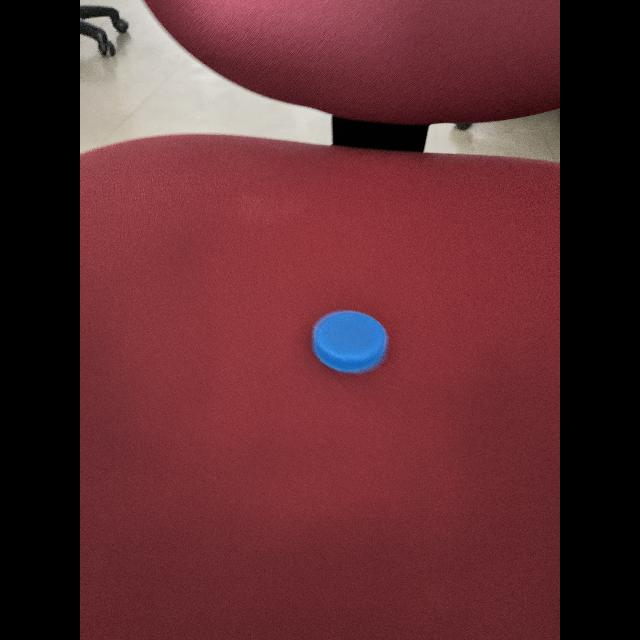plastic_bottle_cap: (304, 308, 390, 378)
